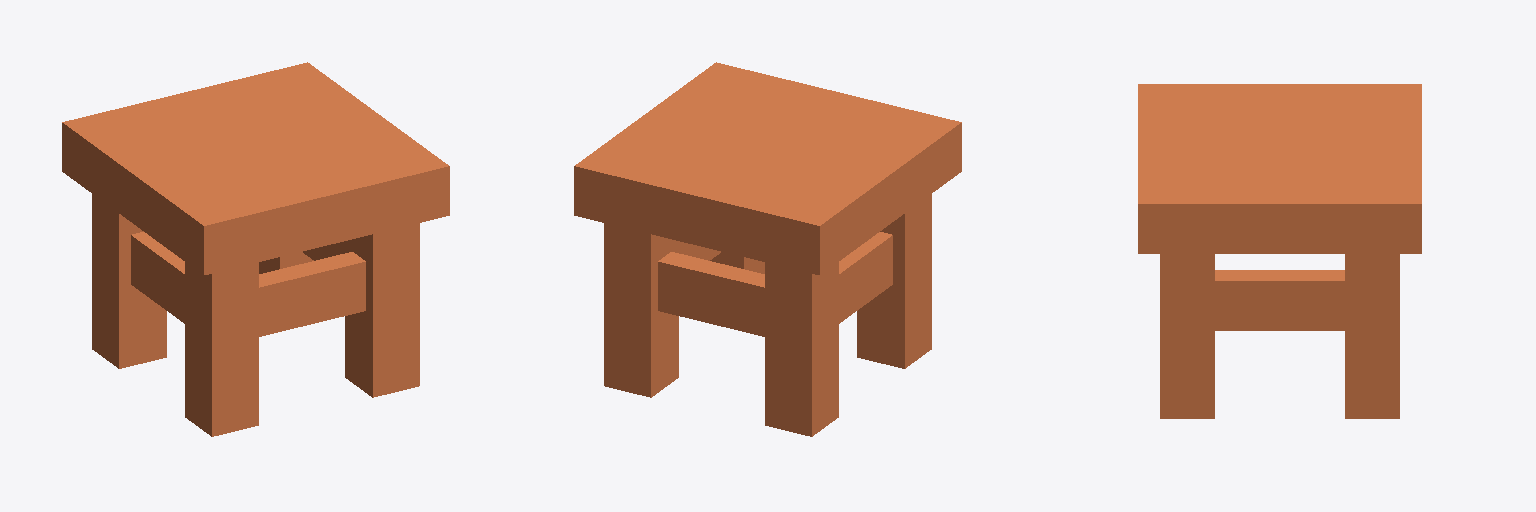
The model's file is stallStool.obj.
The picture shows the model from 3 angles: view 1: azimuth 30°, elevation 25°; view 2: azimuth 150°, elevation 25°; view 3: azimuth 270°, elevation 25°; orthographic projection.
Visible parts, largest first — view 1: stallStool; view 2: stallStool; view 3: stallStool.
Boxes of the visible parts, <box> form: stallStool: <box>62,62,449,436</box>; stallStool: <box>574,62,961,436</box>; stallStool: <box>1138,84,1421,418</box>.
Size of the model in its own units: 0.26 by 0.226 by 0.26.